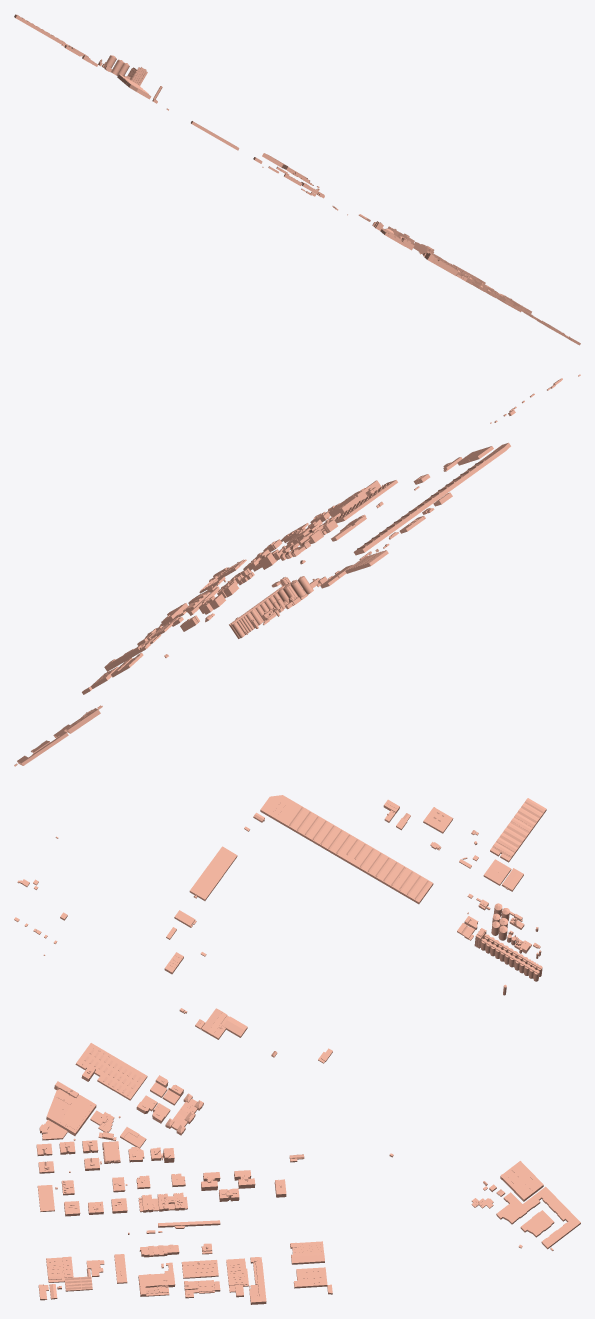
3 renders of one model, top to bottom at view 1: azimuth 30°, elevation 25°; view 2: azimuth 150°, elevation 25°; view 3: azimuth 270°, elevation 25°, orthographic. The views are drawn at different scales.
Size of the model in its own units: 3.52e+07 by 2.6e+07 by 4.19e+07.
